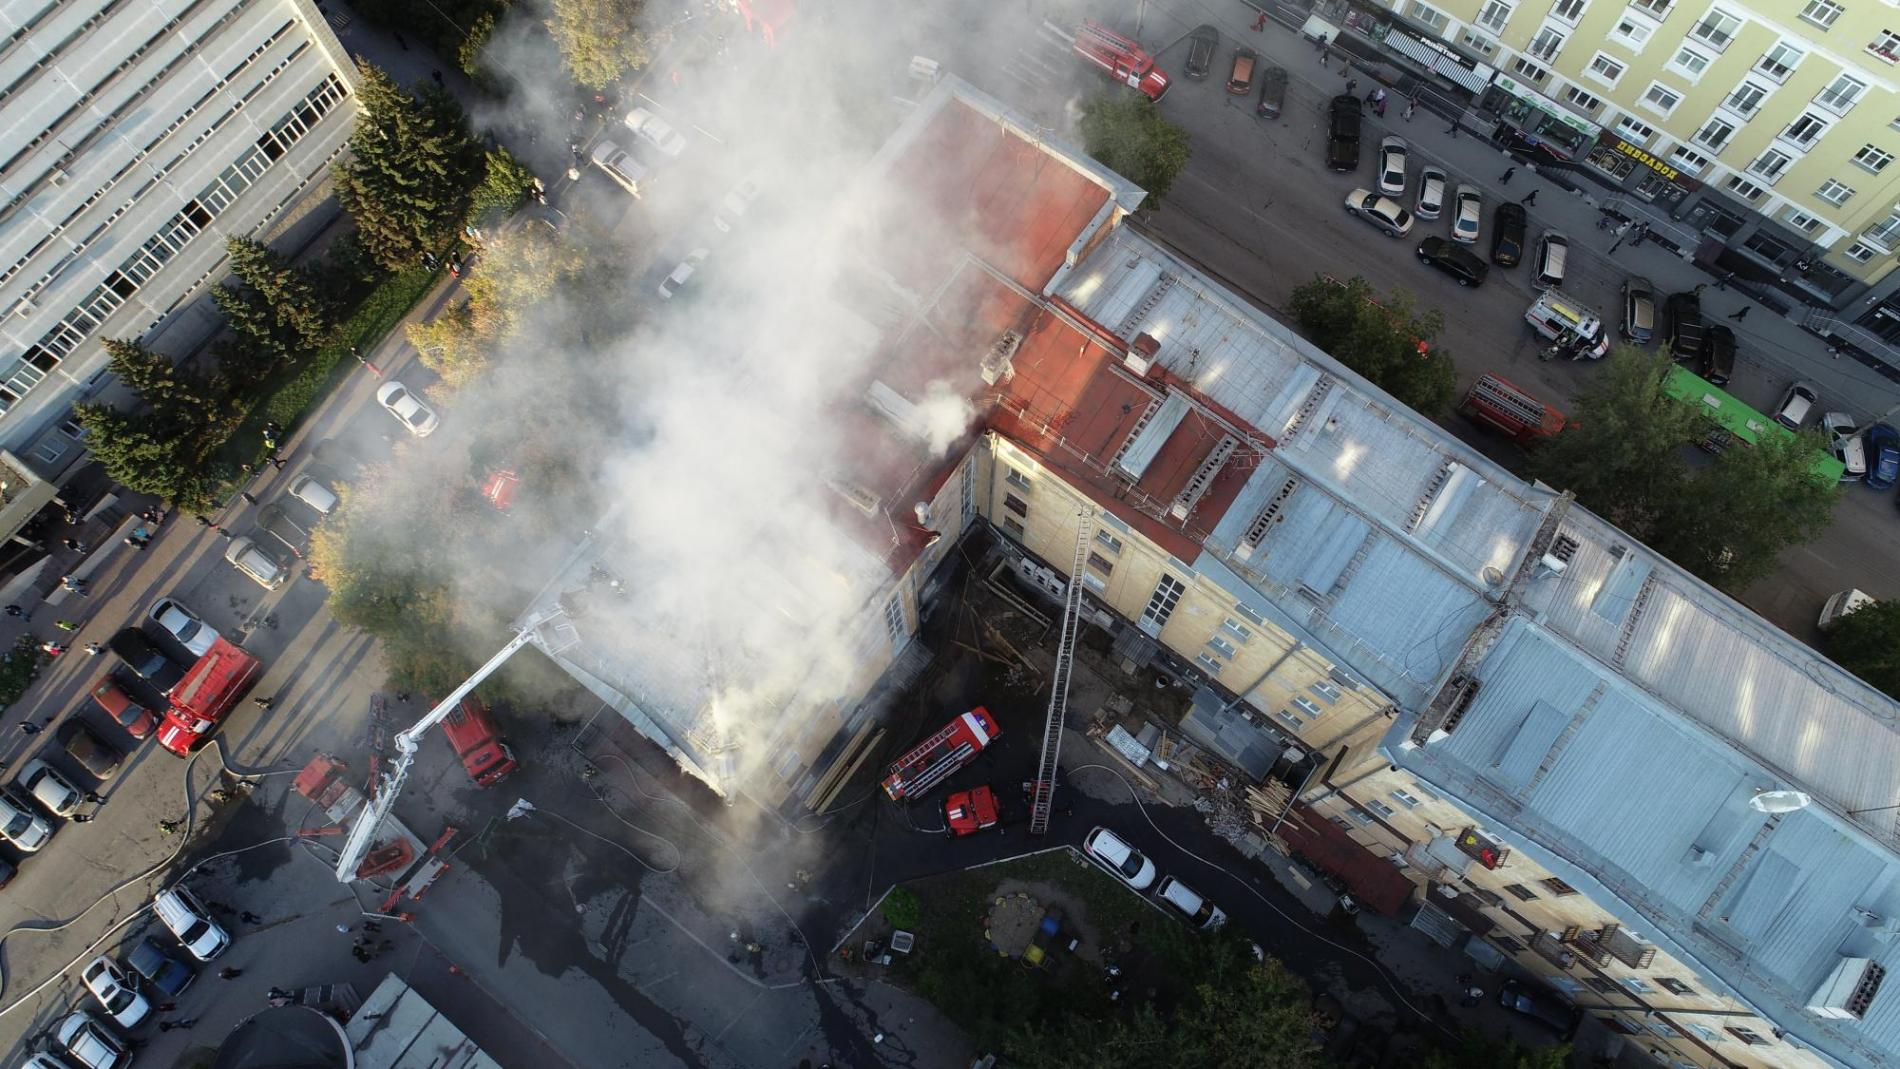fire: (380, 1, 988, 828)
